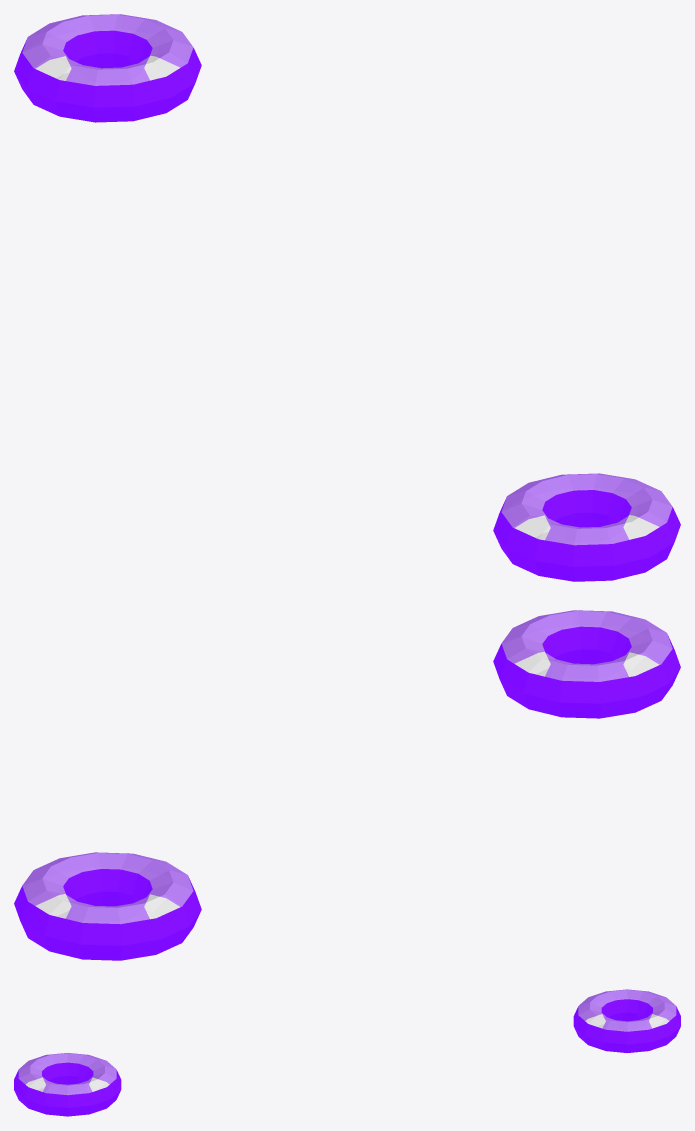
File: (4)H GJump.fbx
3 renders of one model, top to bottom at view 1: azimuth 30°, elevation 25°; view 2: azimuth 150°, elevation 25°; view 3: azimuth 270°, elevation 25°, orthographic. The views are drawn at different scales.
Parts seen in each view (by area): view 1: AirJump.002, AirJump.004; view 2: AirJump.002, AirJump.004; view 3: AirJump.002, AirJump.004.
Boxes of the visible parts, x1,y1,x2,y2 form: AirJump.002: [493, 473, 680, 581]; AirJump.004: [14, 14, 201, 122]; AirJump.002: [493, 610, 680, 718]; AirJump.004: [14, 852, 201, 960]; AirJump.002: [14, 1053, 121, 1116]; AirJump.004: [573, 989, 680, 1052].
Size of the model in its own units: 157 by 148 by 953.
